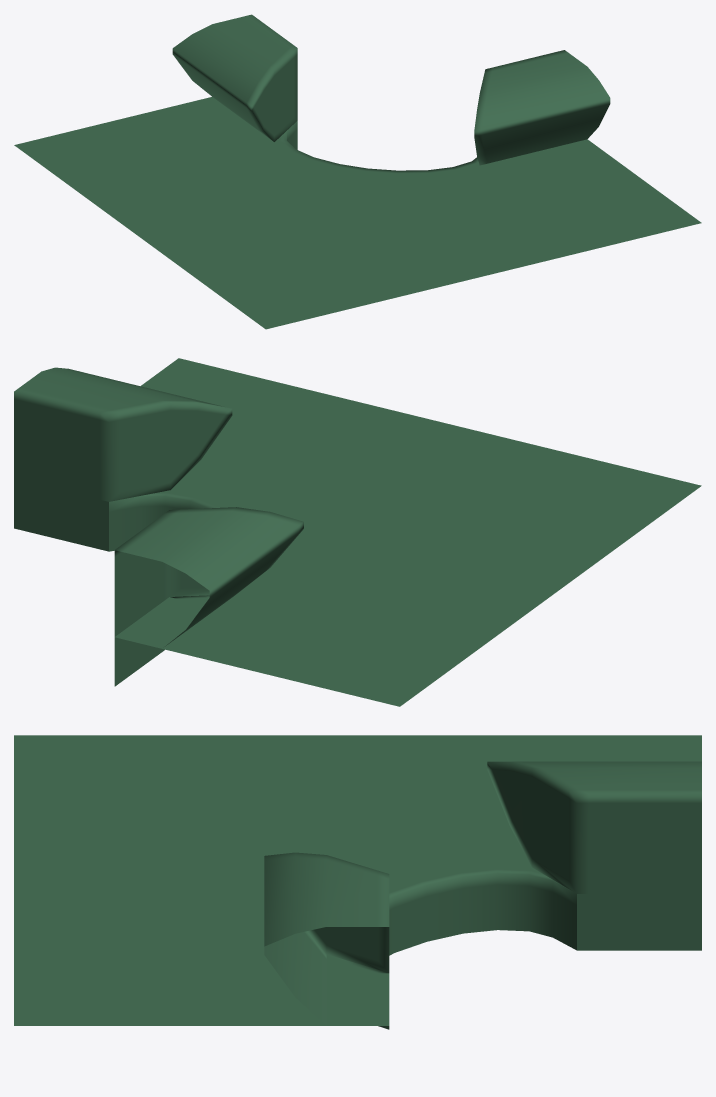
Rendered from table_pocket_convex_a.fbx.
3 views of the same model, one above another, from view 1: azimuth 30°, elevation 25°; view 2: azimuth 150°, elevation 25°; view 3: azimuth 270°, elevation 25° (orthographic). The views are drawn at different scales.
Parts seen in each view (by area): view 1: lod0; view 2: lod0; view 3: lod0.
Boxes of the visible parts, box(x1,y1,x2,y2) form: lod0: box(14, 14, 701, 329); lod0: box(14, 358, 701, 706); lod0: box(14, 735, 701, 1029).
Size of the model in its own units: 11 by 2.75 by 11.
